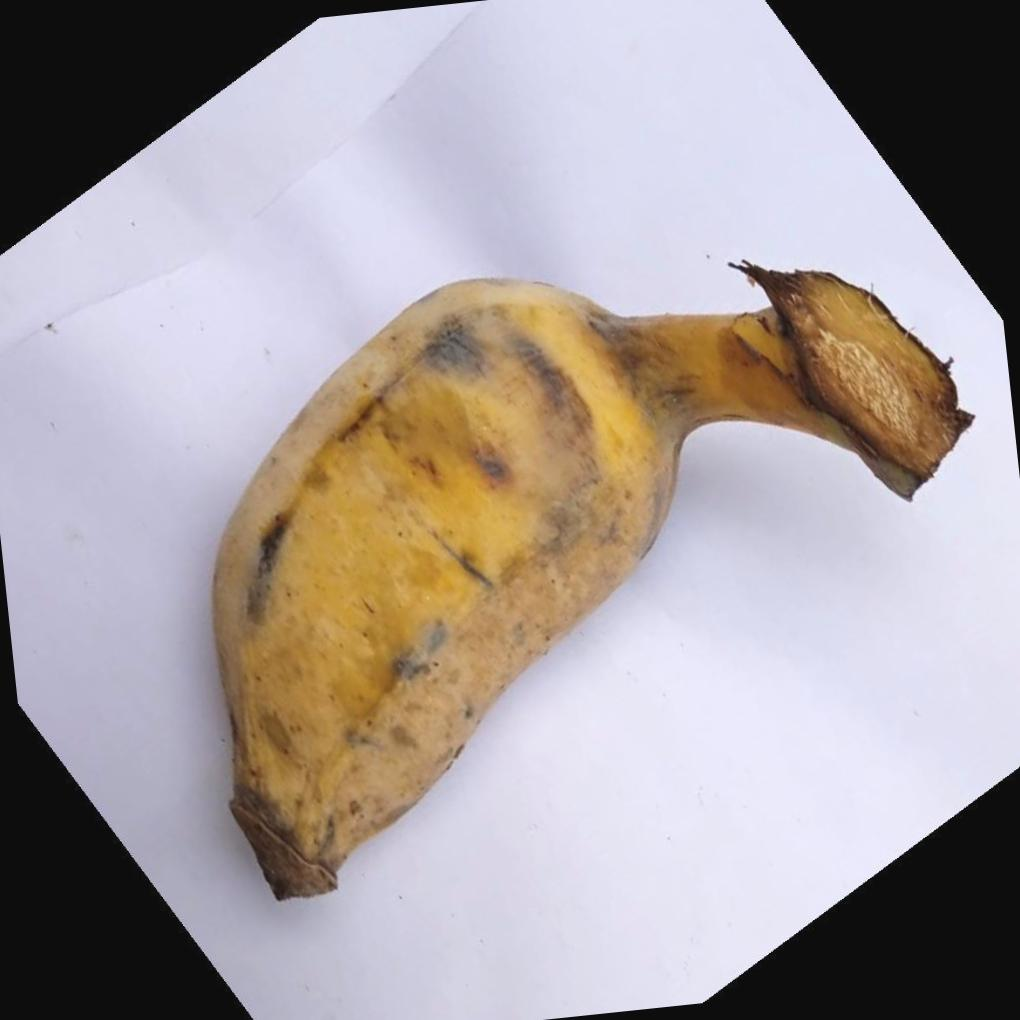Banana Ripe: (164, 208, 918, 904)
